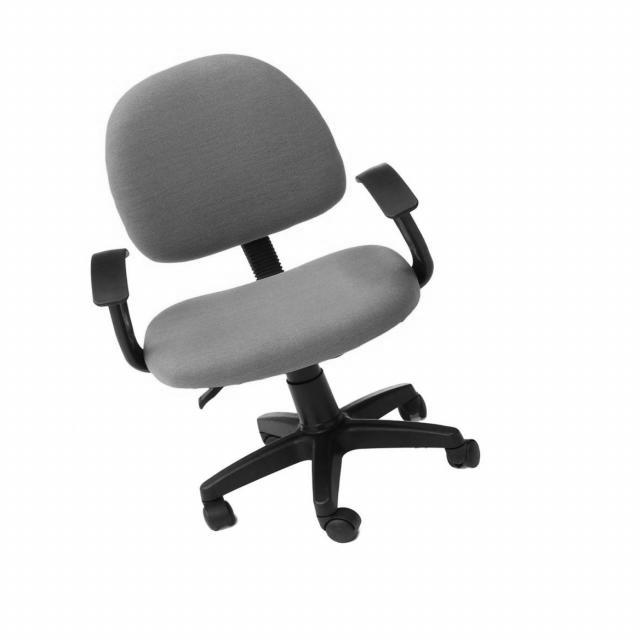chair: (83, 53, 485, 550)
